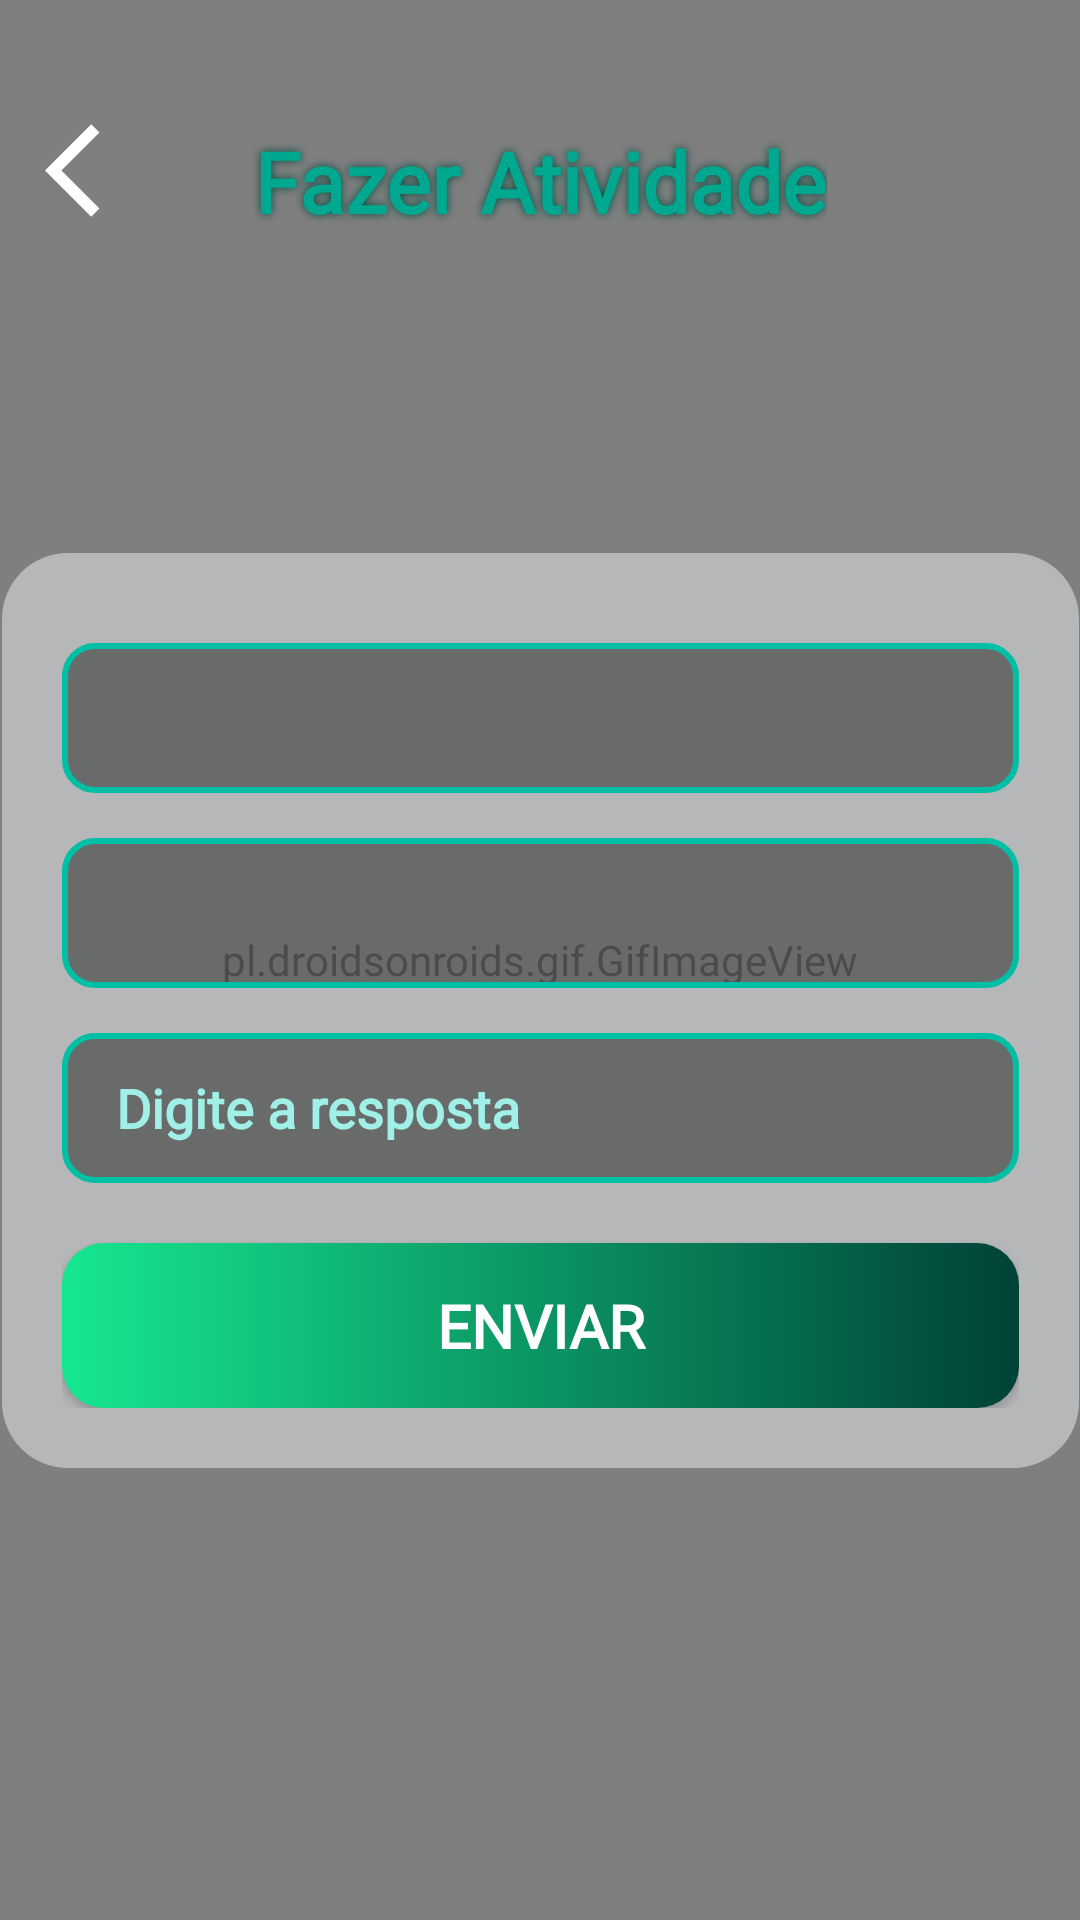

Where icons sit on this 1080px×1920px app screen, as [x1, y1, x2, y2]:
voltar: [45, 124, 99, 217]
